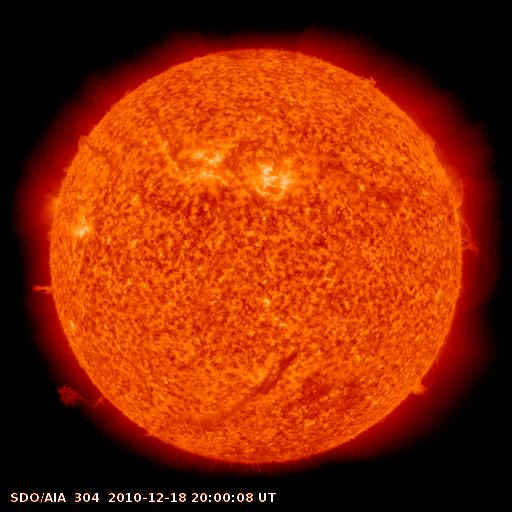prominence: (40, 369, 121, 422), (447, 208, 492, 268), (393, 363, 443, 416), (57, 117, 97, 177), (409, 112, 449, 160), (19, 273, 60, 309)
